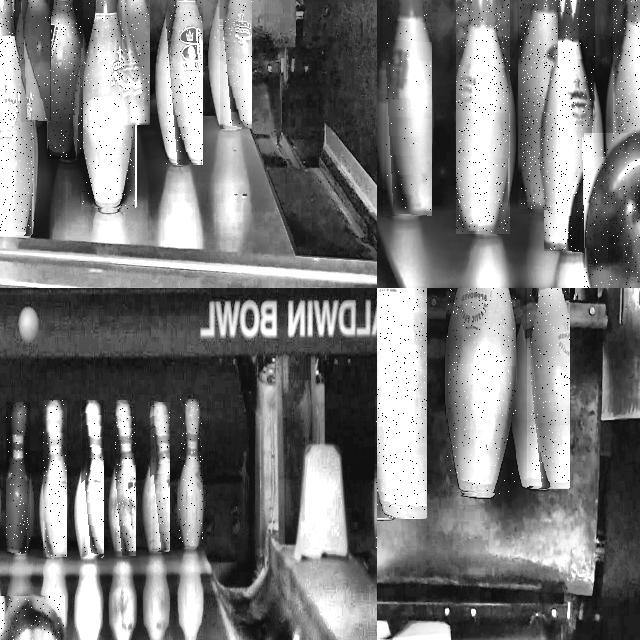bowling-ball: (584, 135, 640, 288), (0, 596, 63, 640)
bowling-pins: (447, 288, 516, 494), (544, 0, 595, 251), (456, 0, 510, 232), (377, 288, 426, 518), (82, 0, 135, 209), (385, 0, 431, 216), (91, 20, 136, 205), (529, 288, 570, 487), (520, 0, 557, 209), (166, 0, 203, 164), (48, 0, 81, 157), (222, 0, 251, 129), (43, 400, 66, 556), (179, 400, 203, 548), (21, 0, 50, 122), (6, 402, 29, 553), (123, 0, 149, 125), (115, 400, 136, 553), (84, 401, 103, 555), (153, 403, 169, 550)
